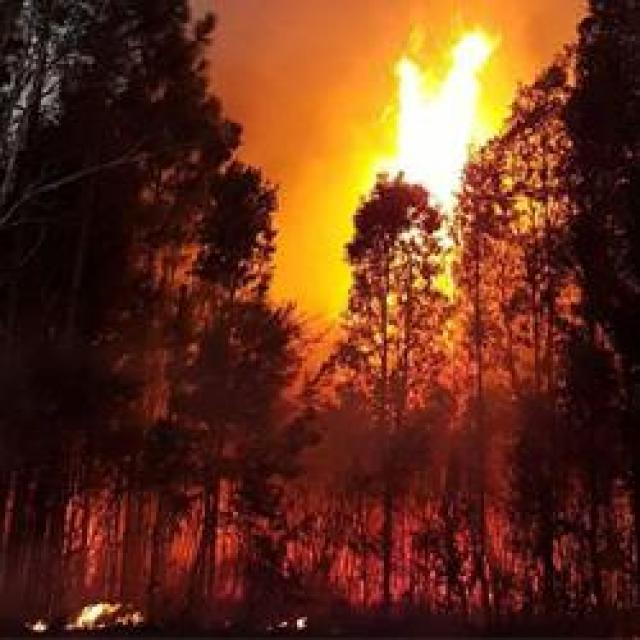fire: (394, 61, 473, 122), (406, 121, 463, 177), (453, 33, 487, 69), (73, 600, 104, 636)
smoke: (218, 2, 369, 120), (292, 97, 346, 295), (498, 3, 567, 56), (384, 0, 443, 46)
